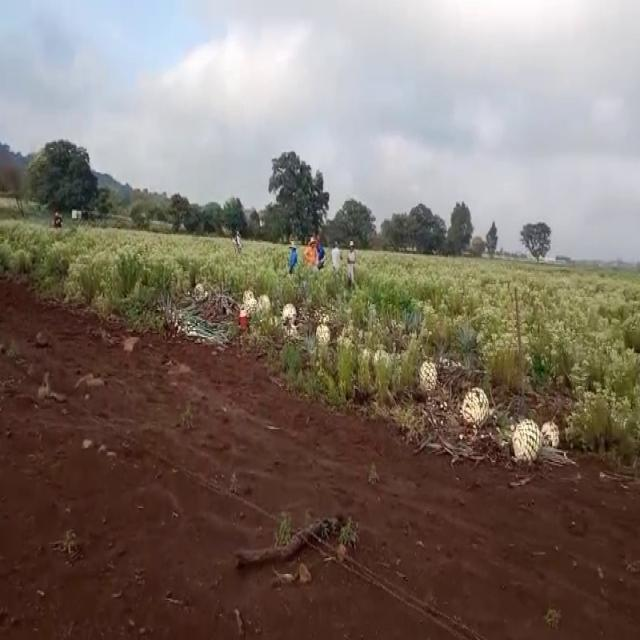agave: (514, 414, 543, 467), (462, 386, 491, 439), (418, 358, 440, 399), (538, 420, 561, 451), (245, 288, 258, 316), (316, 323, 332, 345), (282, 298, 296, 322)
